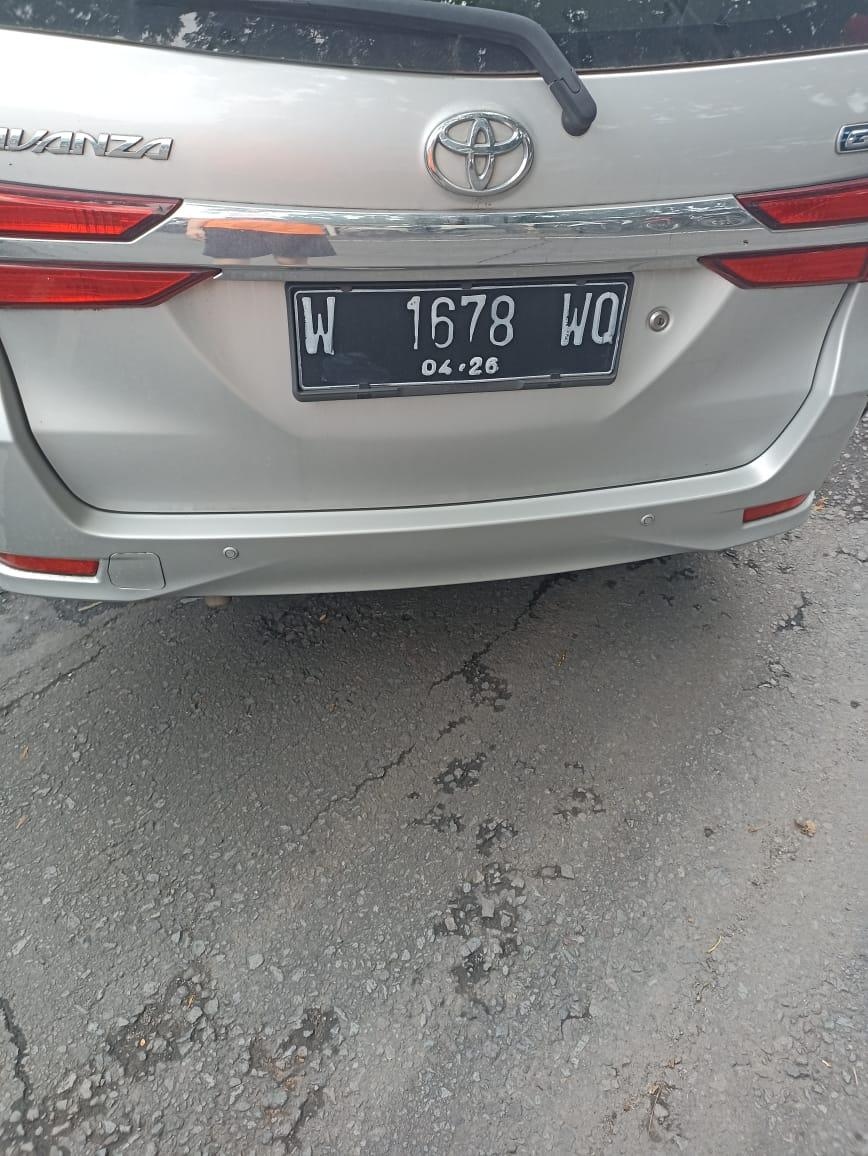plat: (287, 277, 632, 400)
